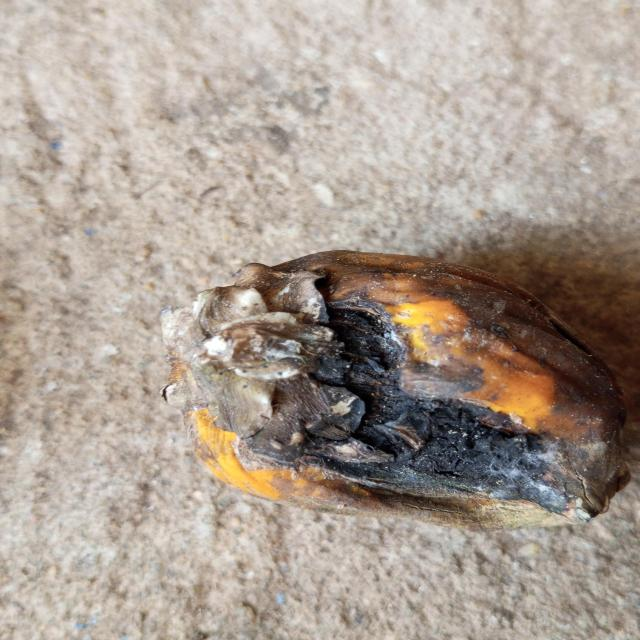damaged: (161, 251, 635, 529)
